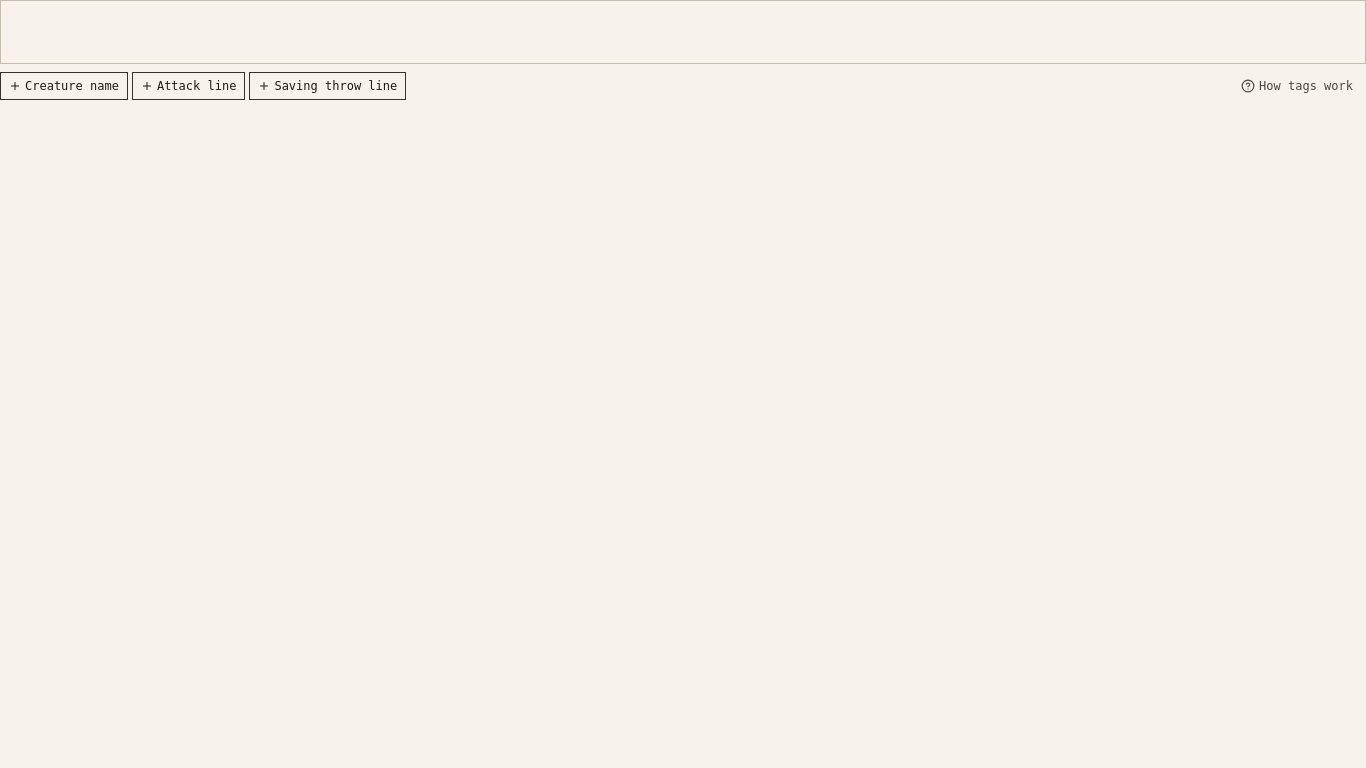
MarkupField (CodeMirror) › insert buttons add a tag on click and open composite editors
The image size is (1366, 768).
Click the button "Saving throw line": (328, 86) [249, 72, 406, 100]
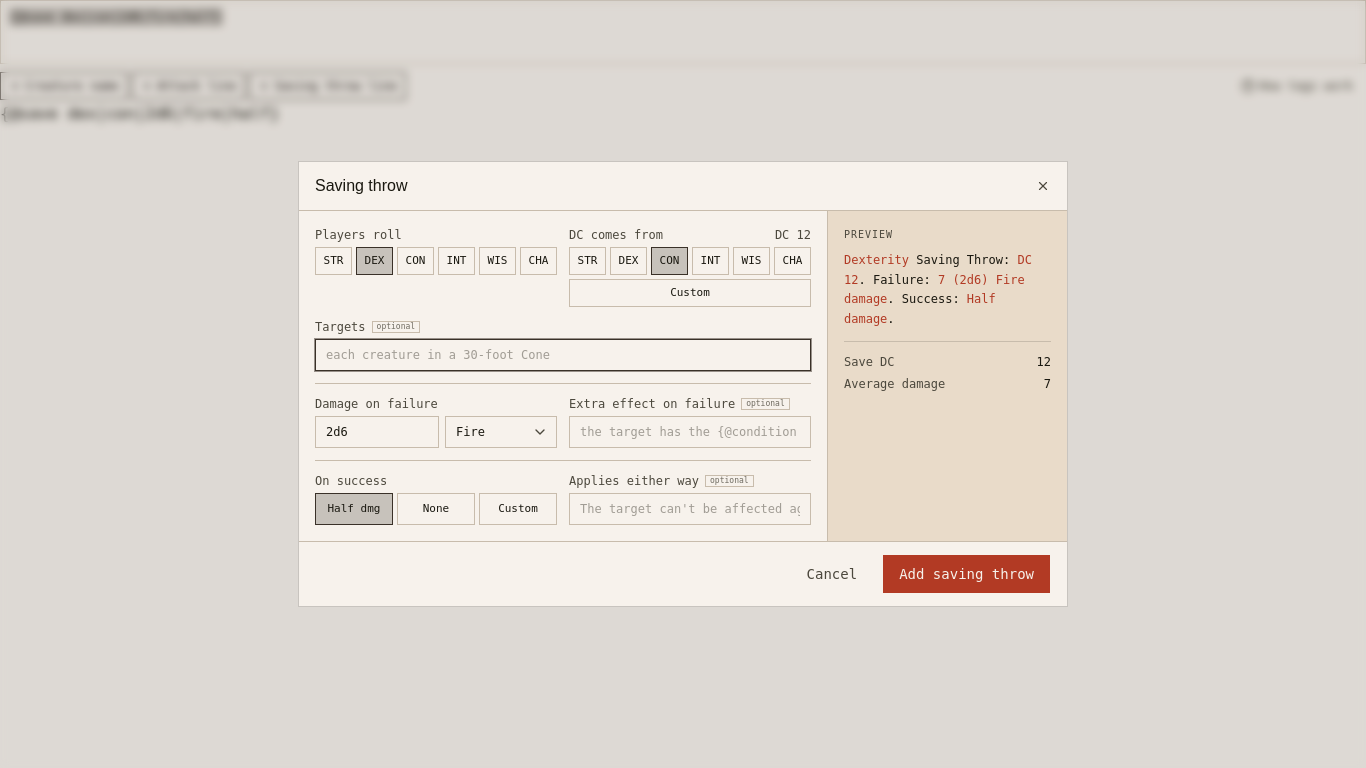
Result: the text box labelled "{@save dex|con|2d6|fire|half}" is shown at [11, 10, 220, 24]
Result: the field named "Failure damage dice" is shown at [315, 416, 439, 448]
Result: the button "Add saving throw" is shown at [882, 554, 1051, 594]
